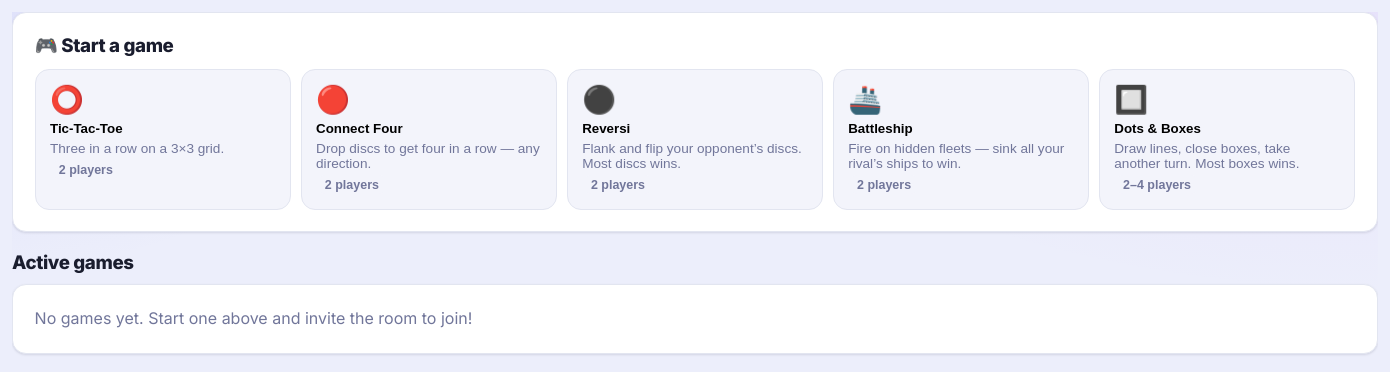
Test: GamesPanel › creates a game from the catalog and opens its lobby
Click the button "Dots & Boxes" at (1227, 139), box x1=1099 y1=69 x2=1355 y2=210
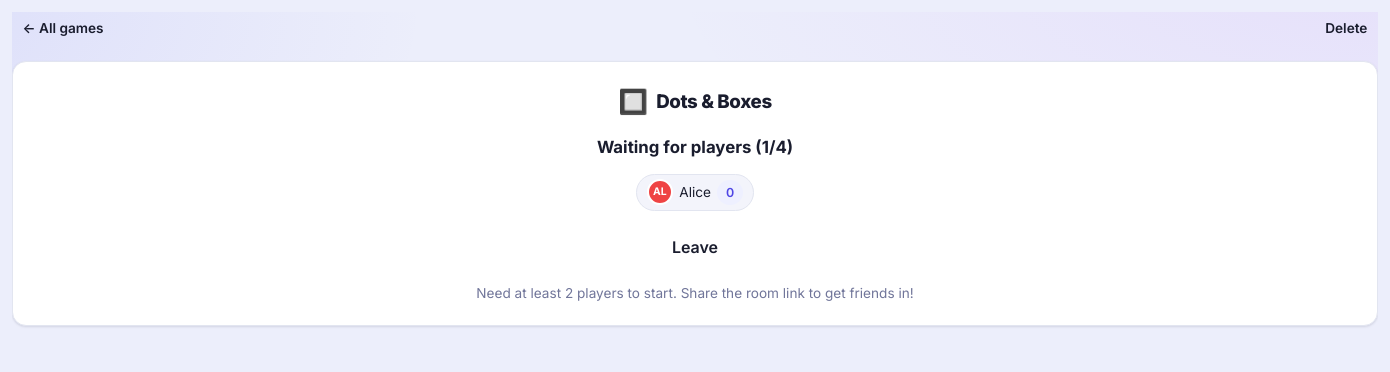
Result: the text "Waiting for players (1/4)" is shown at x1=597 y1=134 x2=793 y2=160
Result: the text "Need at least 2 players" is shown at x1=476 y1=283 x2=914 y2=304
